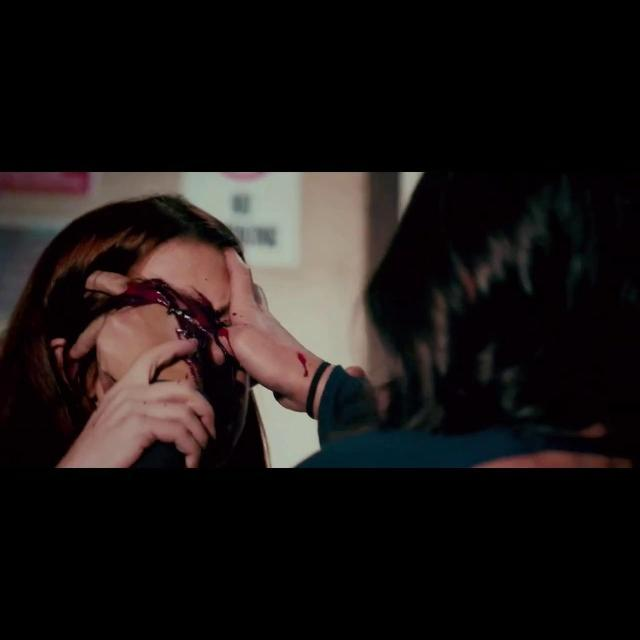blood: (125, 278, 242, 441), (296, 352, 316, 378)
